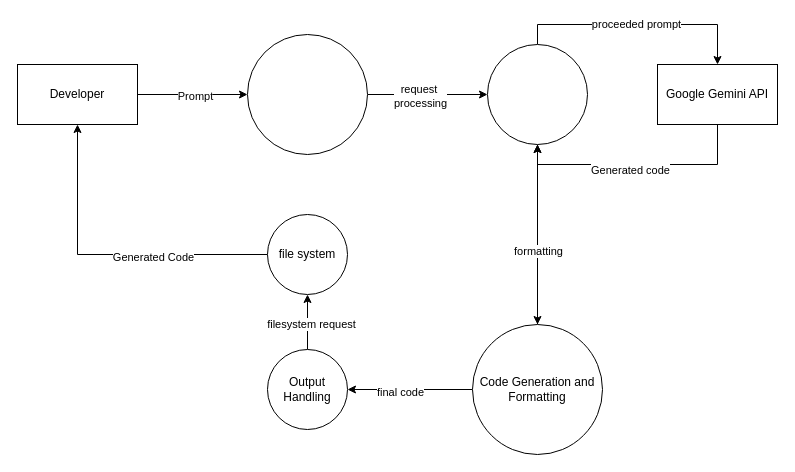
This 795x472 diagram has some shape labels left out. Each missing label, with the centre of its shape:
API Communication: point (537, 94)
Prompt reception and processing: point (307, 94)
